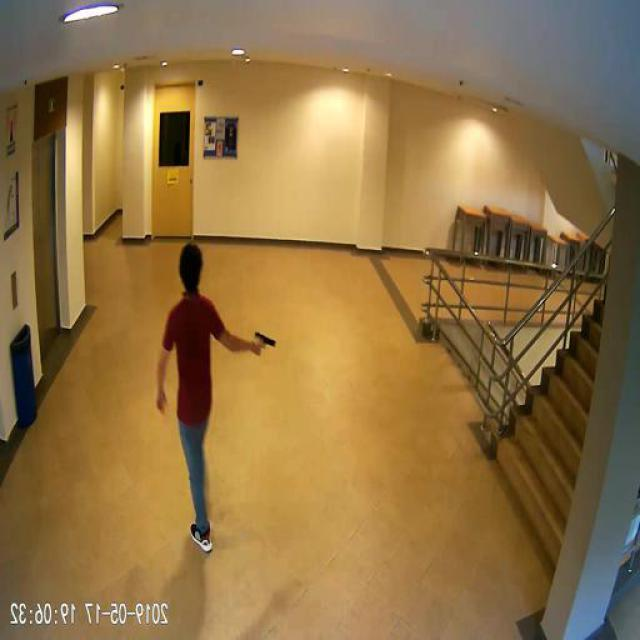Gun: (256, 332, 278, 352)
